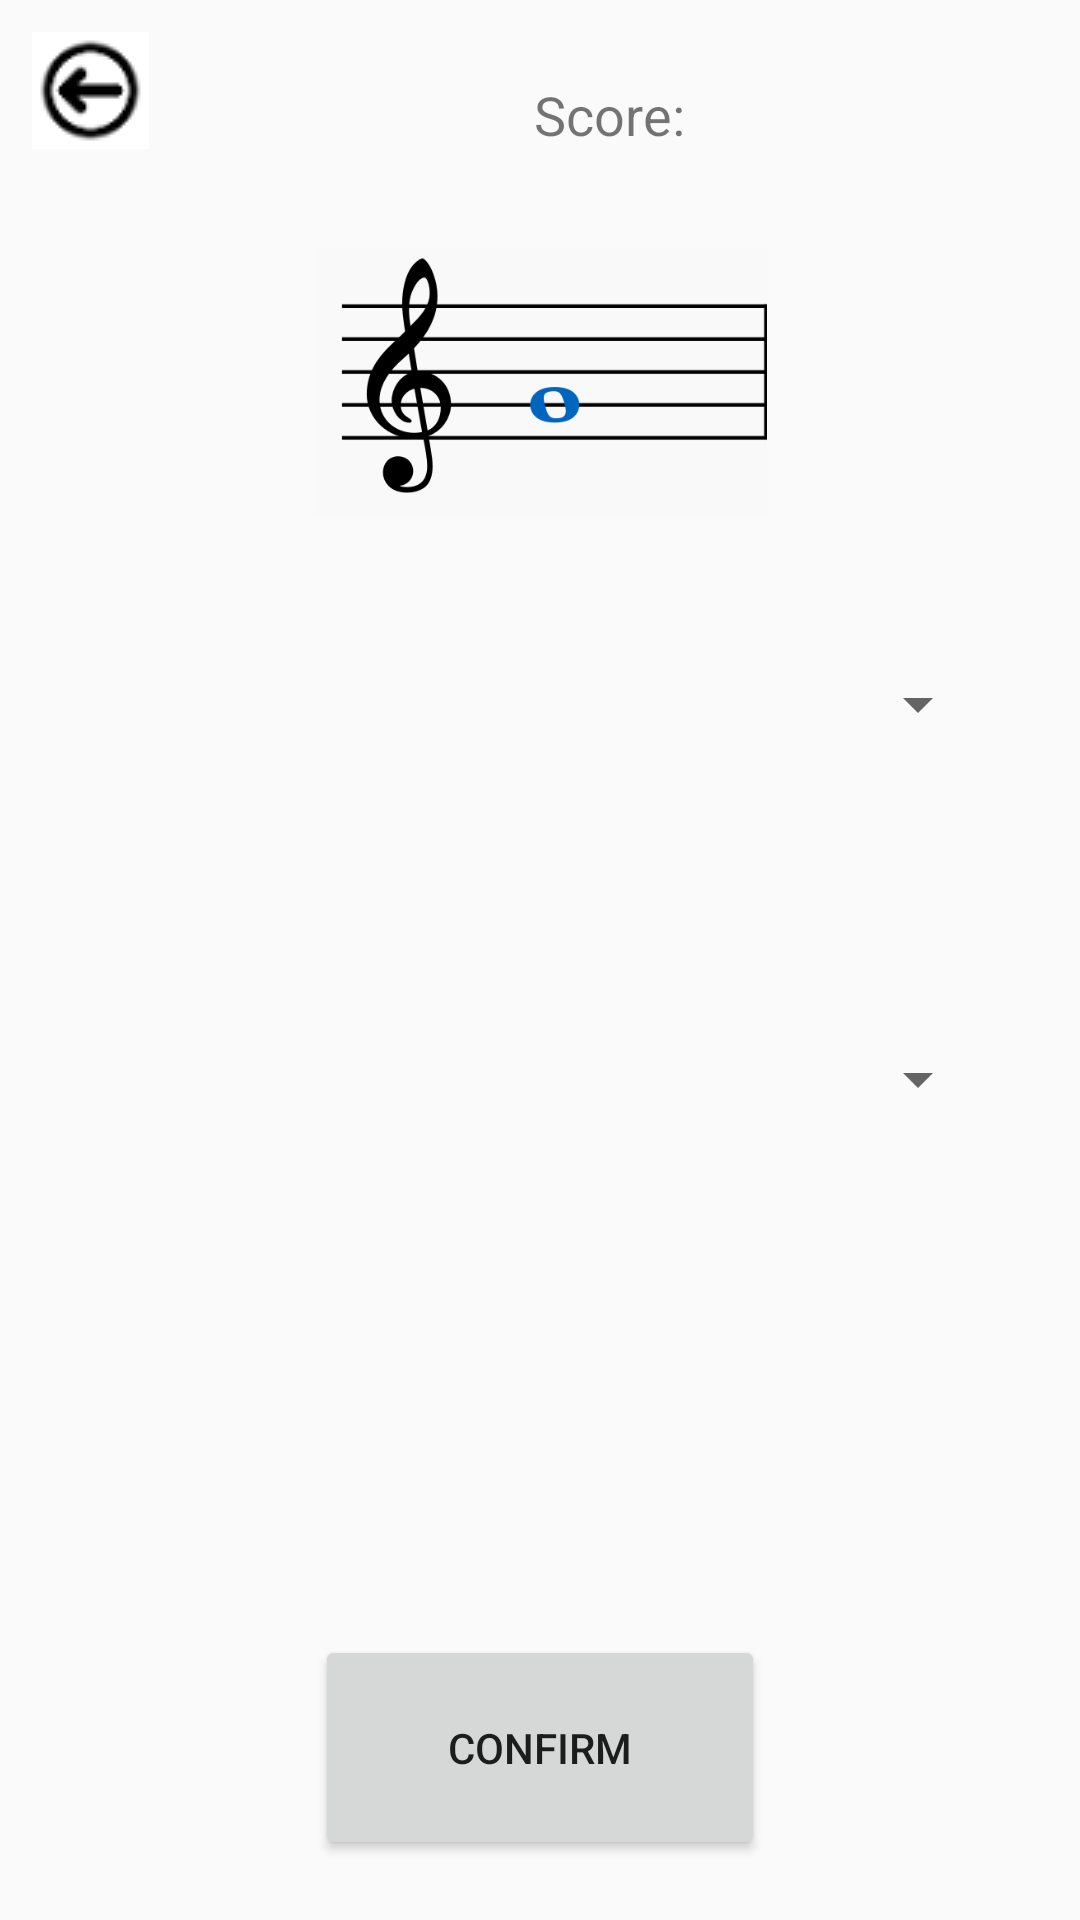

Named icons in this screenshot (1080×1920) and their bounding boxes, (x1, y1, x2, y2):
back: (41, 41, 140, 140)
